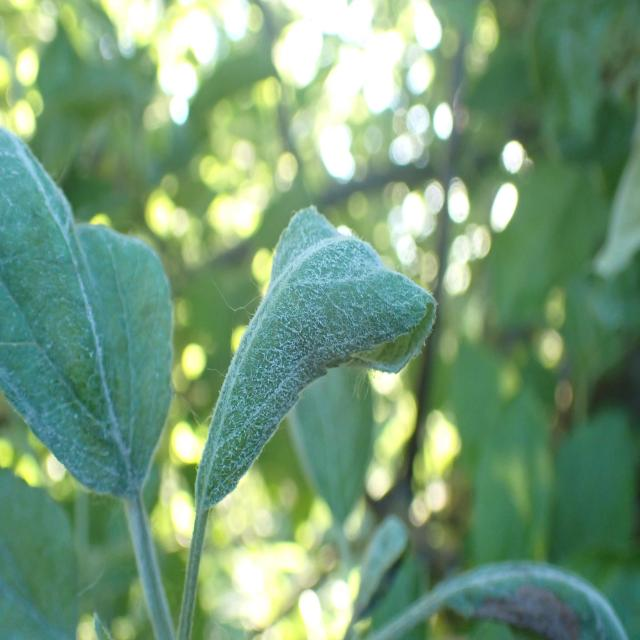Powdery_mildew: (192, 169, 446, 514), (0, 117, 172, 543), (372, 515, 628, 640)
